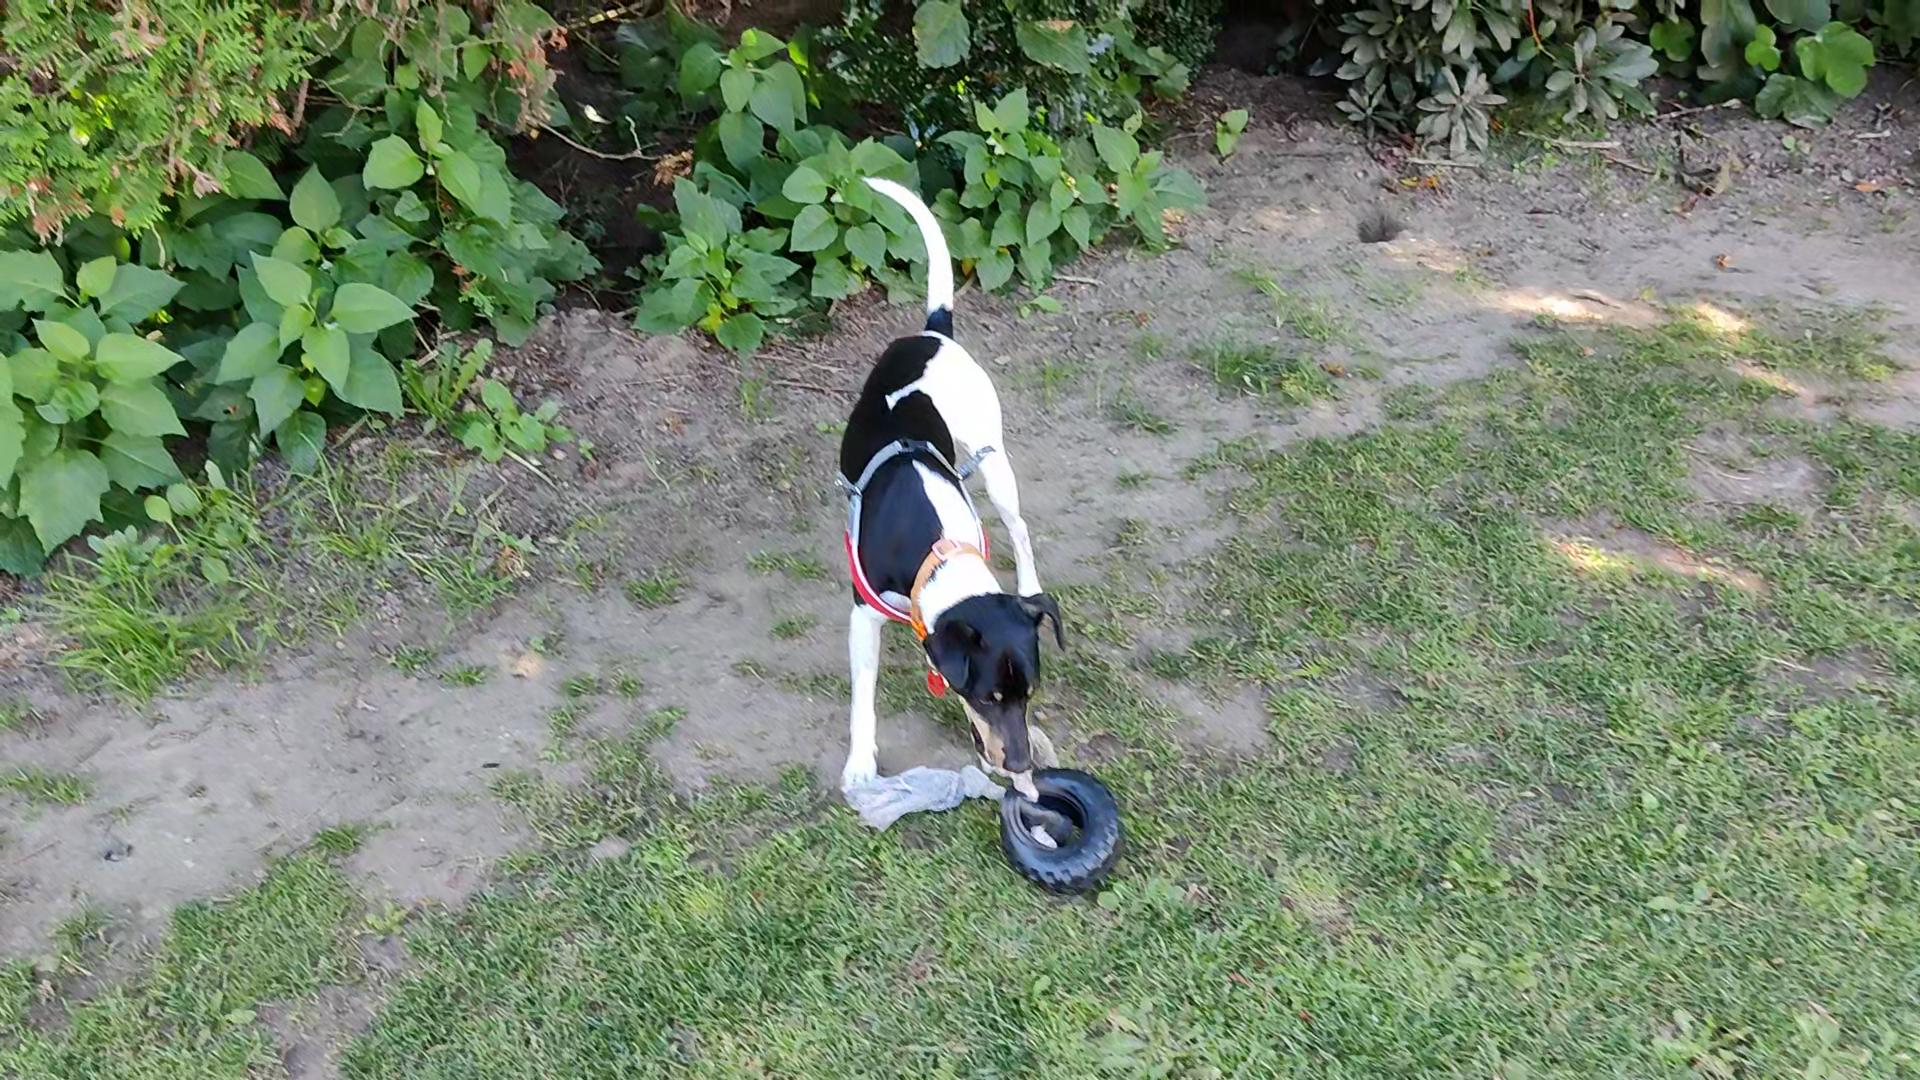Dog: (799, 158, 1089, 818)
